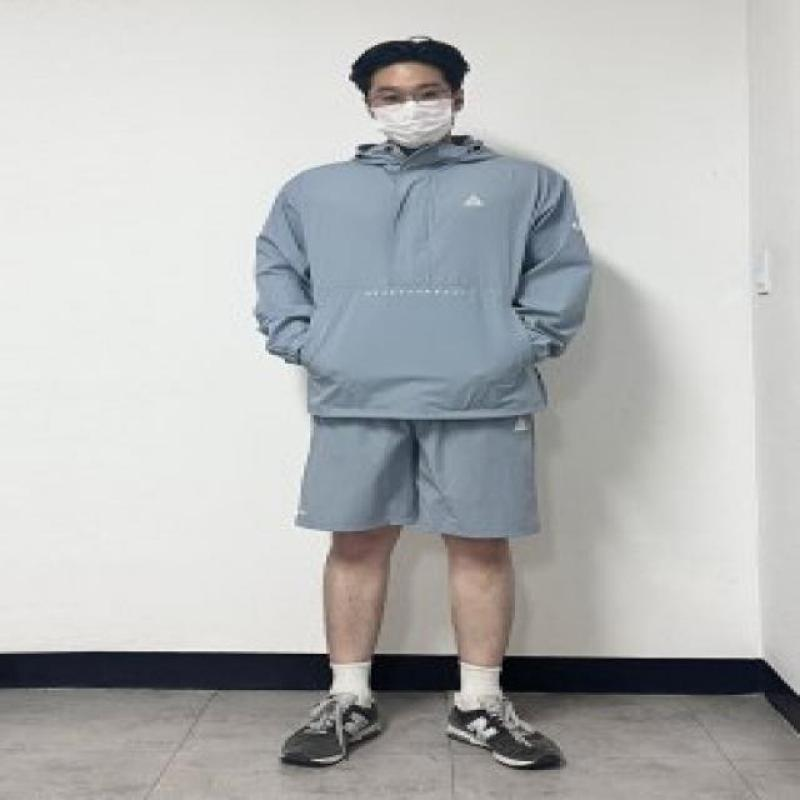Shorts: (292, 413, 541, 542)
coat: (251, 135, 592, 422)
